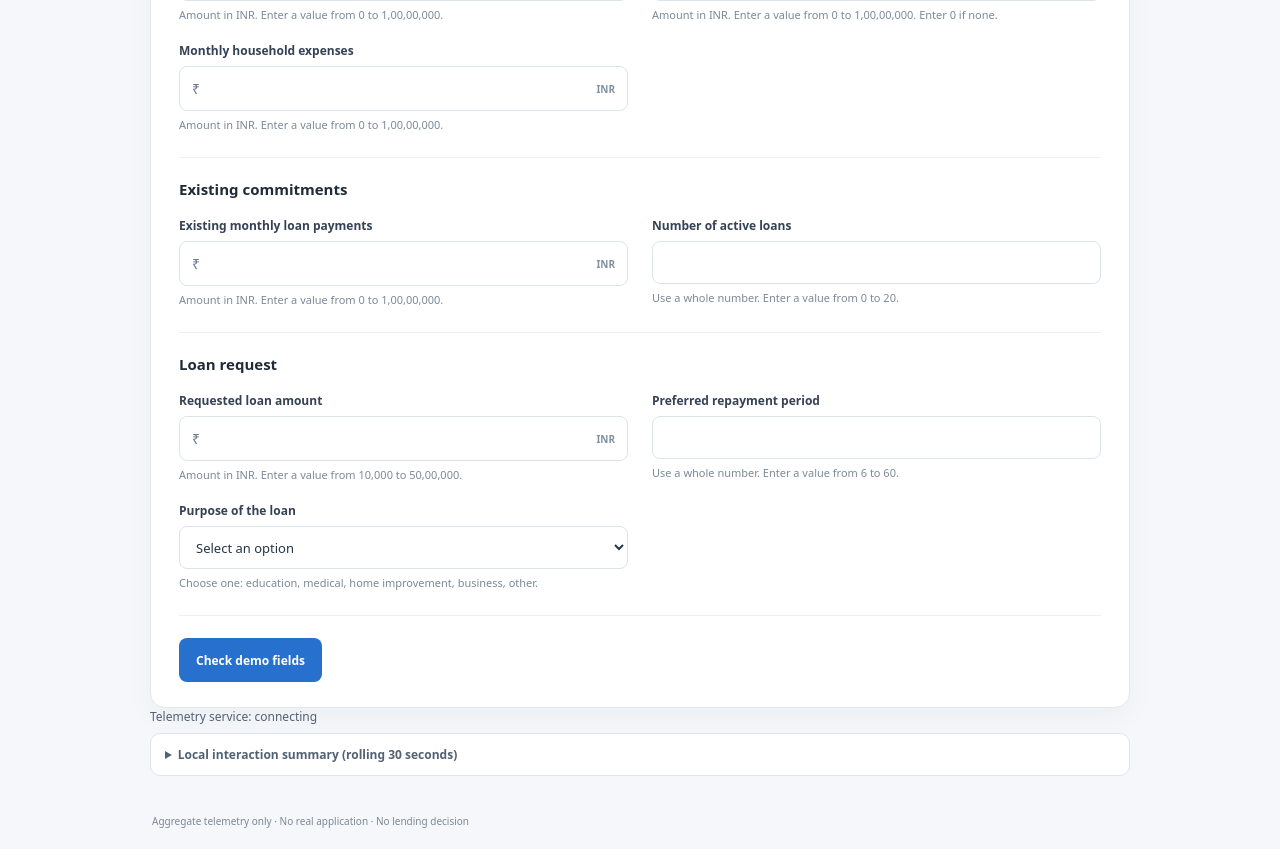
Test case: synthetic personal loan form › shows correction messages for values outside the shared validation rules
(page scrolled)
Type "9999" into the number field labelled "Requested loan amount".
click(398, 439); type("9999")  # box [200, 417, 596, 460]
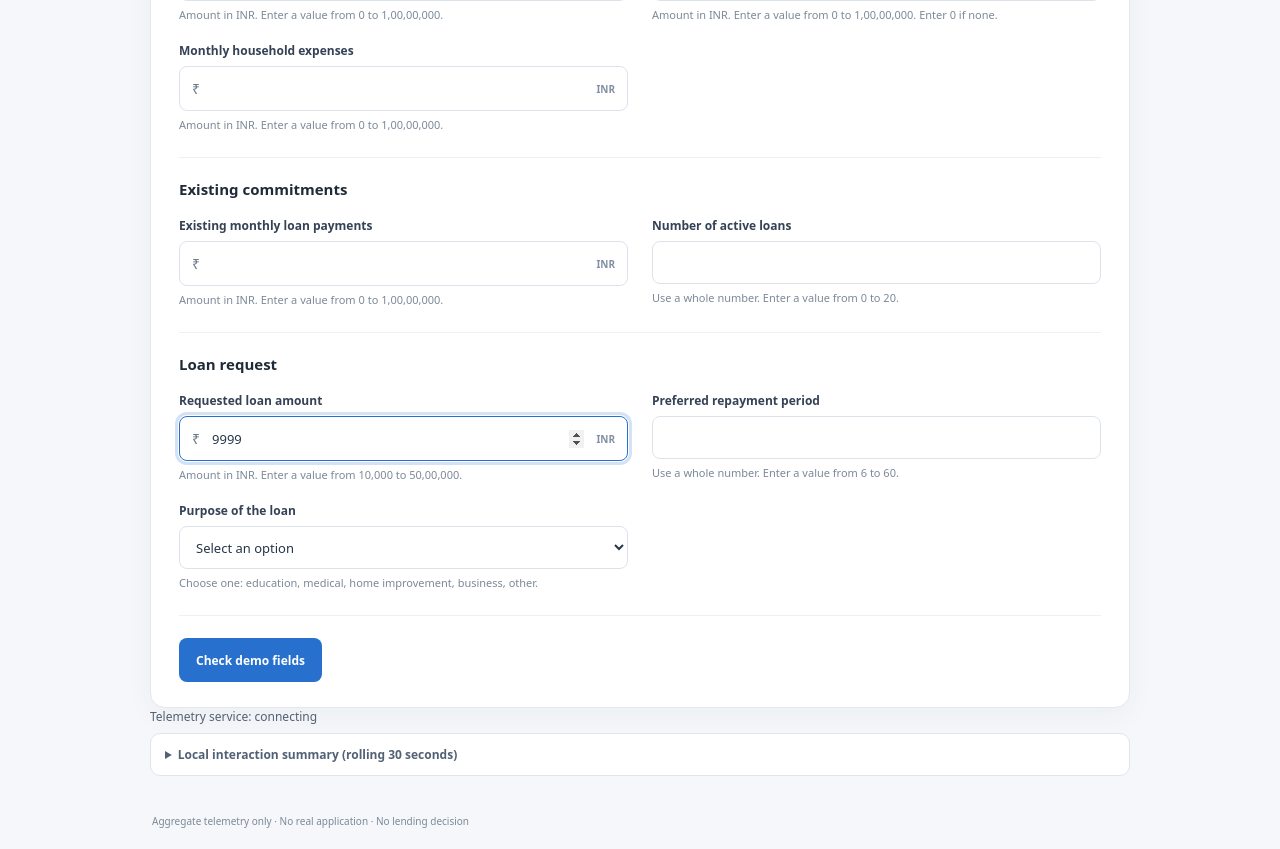
Press Tab
(page scrolled)
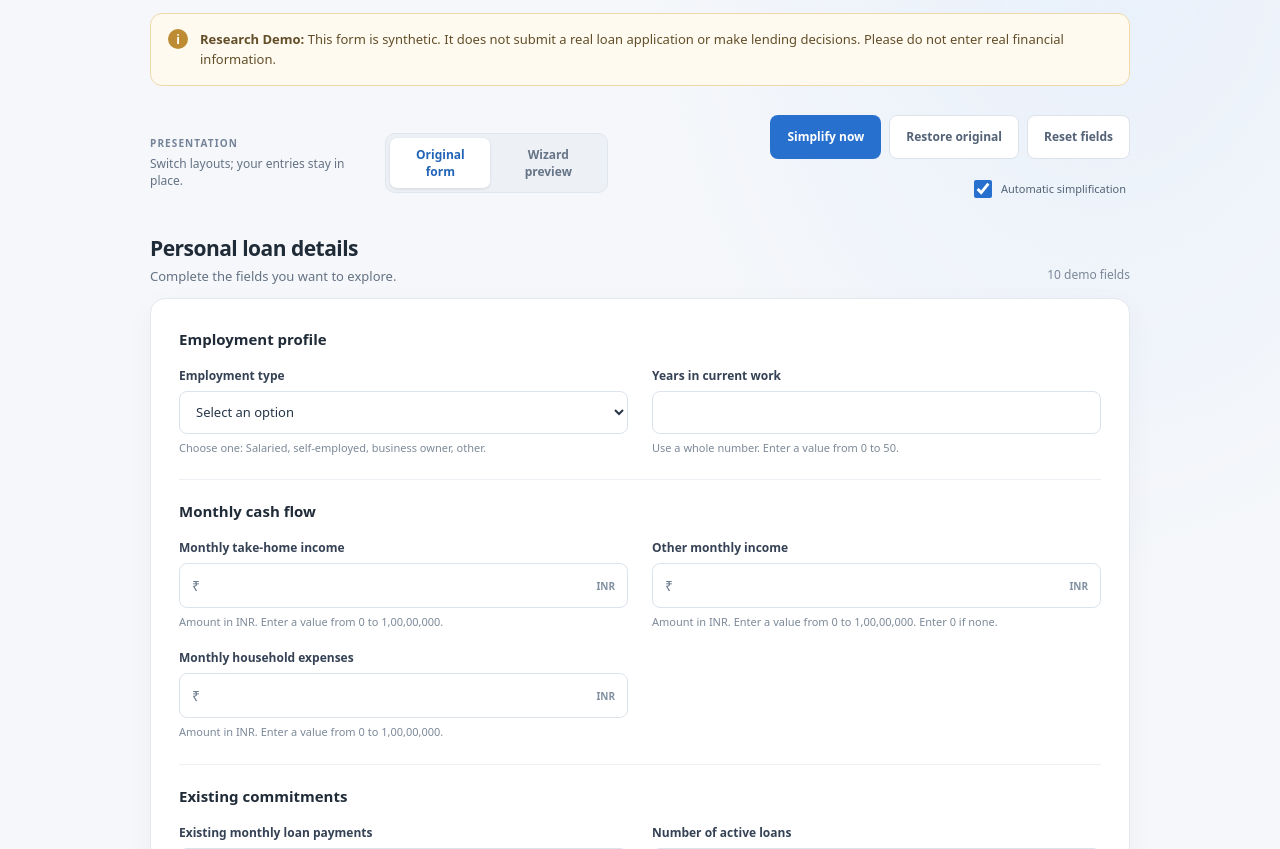
Type "2.5" into the number field labelled "Years in current work".
click(876, 412); type("2.5")  # box [652, 390, 1101, 434]
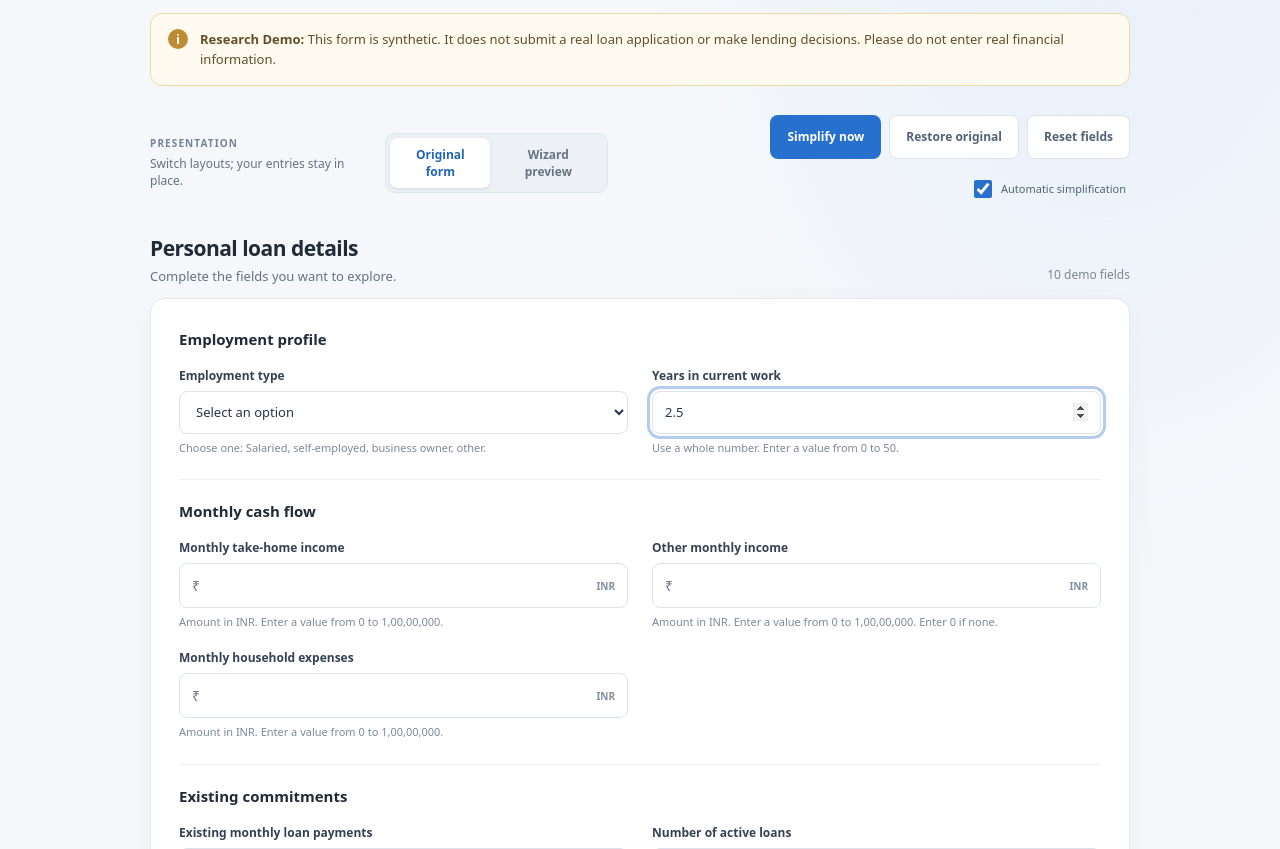
Press Tab
(page scrolled)
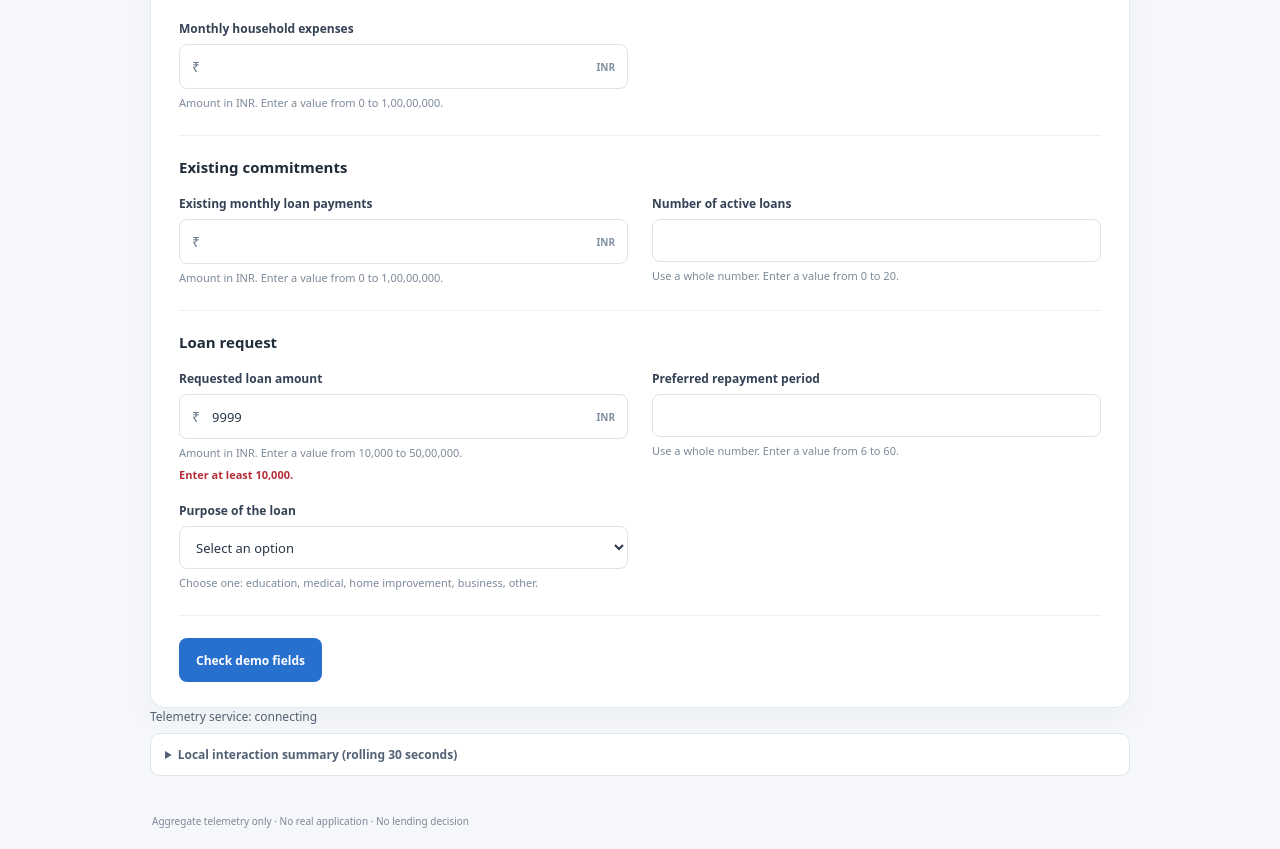
Replace the text in the number field labelled "Requested loan amount" with "100000" at (398, 417), box [200, 395, 596, 438]
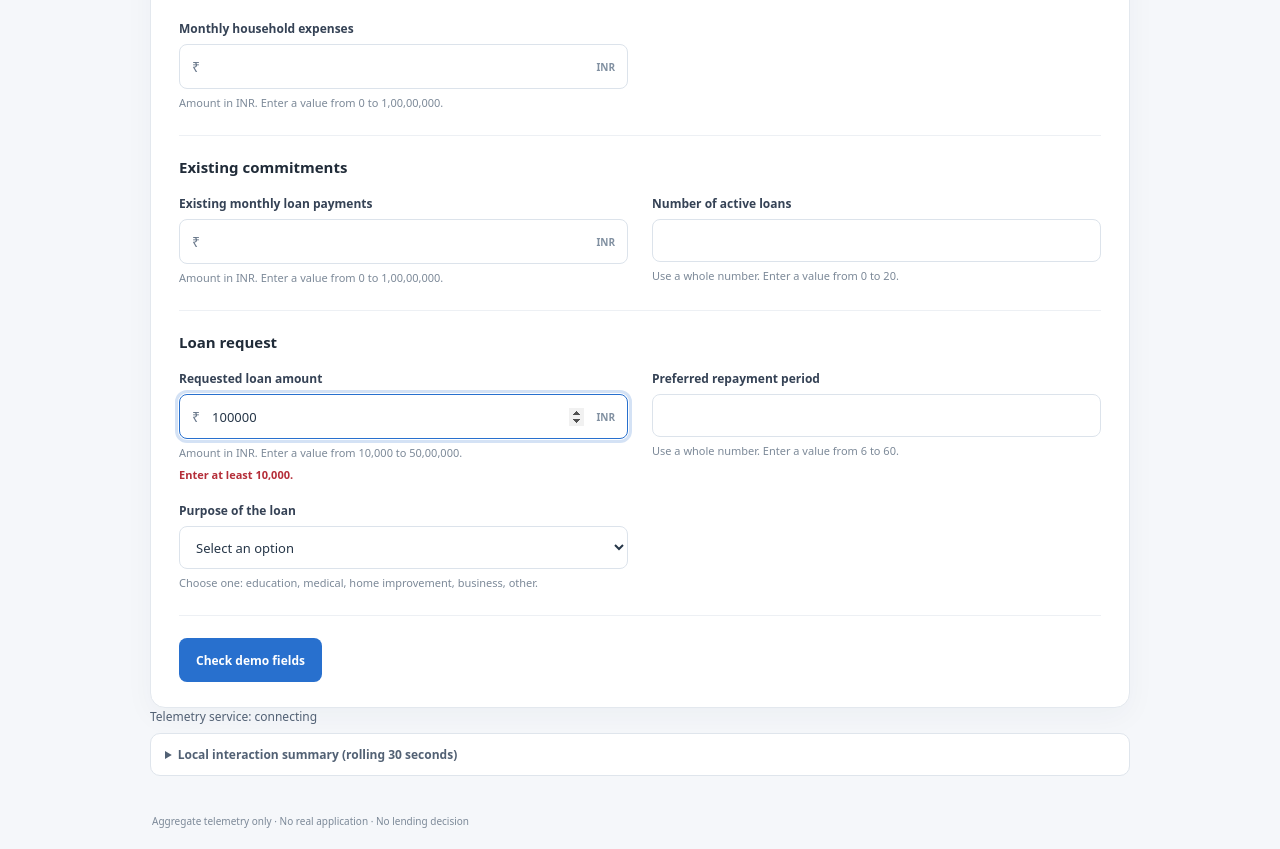
Press Tab
(page scrolled)
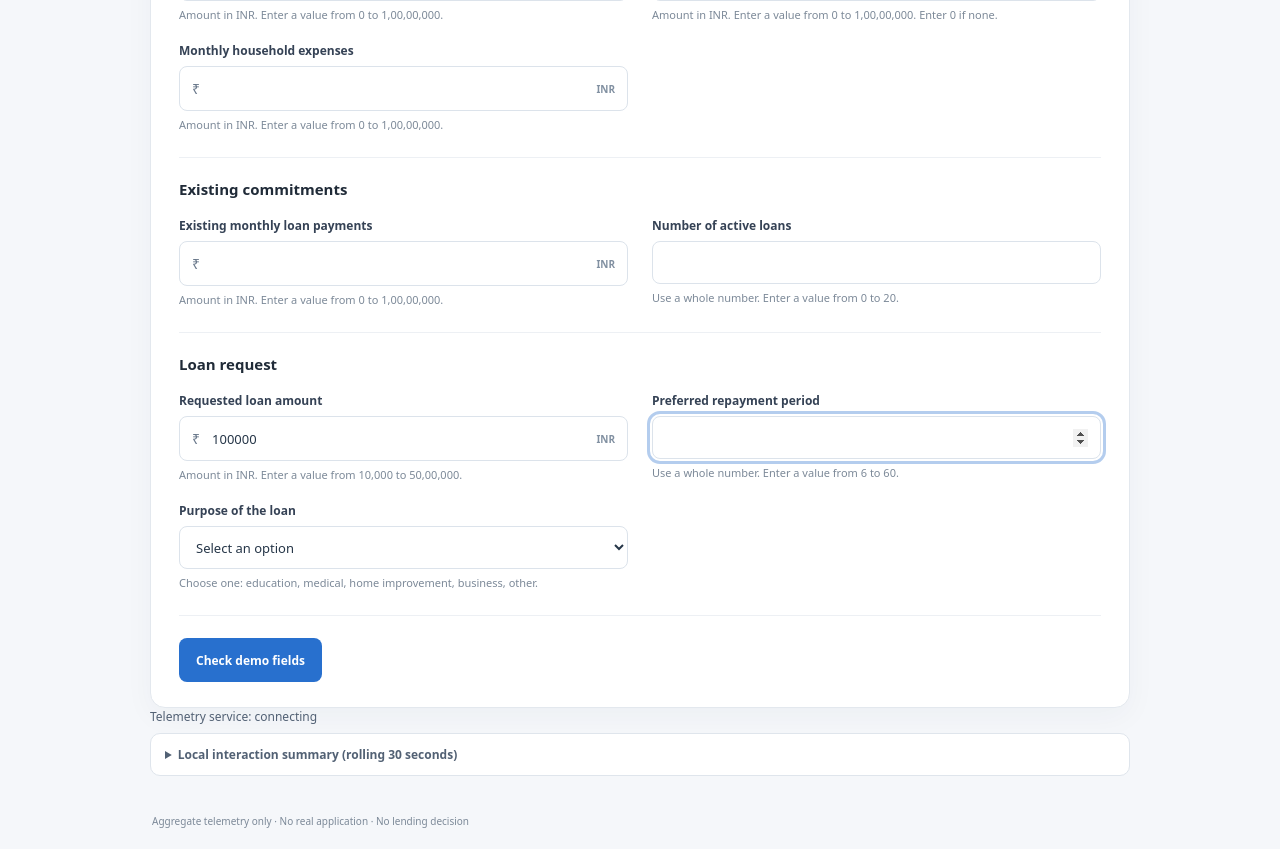
expect the text "Enter at least 10,000." is gone: met
